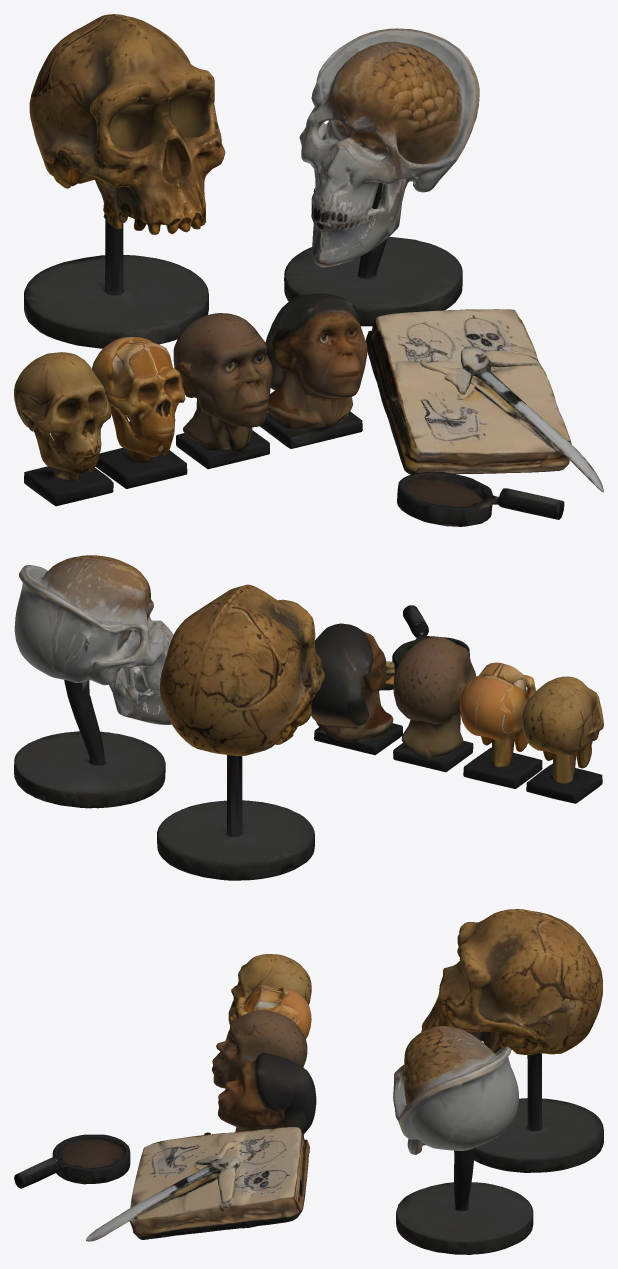
Rendered from forensik-tengkorak.glb.
The picture shows the model from 3 angles, top to bottom: view 1: azimuth 30°, elevation 25°; view 2: azimuth 150°, elevation 25°; view 3: azimuth 270°, elevation 25°; orthographic projection. The views are drawn at different scales.
Parts seen in each view (by area): view 1: tripo_node_54869796-9859-466a-88f6-b70ee5d02a03; view 2: tripo_node_54869796-9859-466a-88f6-b70ee5d02a03; view 3: tripo_node_54869796-9859-466a-88f6-b70ee5d02a03.
Part boxes in pixels (box(x1,y1,x2,y2)): tripo_node_54869796-9859-466a-88f6-b70ee5d02a03: box(14, 14, 603, 526); tripo_node_54869796-9859-466a-88f6-b70ee5d02a03: box(14, 555, 603, 880); tripo_node_54869796-9859-466a-88f6-b70ee5d02a03: box(14, 909, 603, 1254).
Bounding box in the file's own units: 0.8575 × 0.4763 × 0.9999.
Materials: 1 (1 with a texture image).
